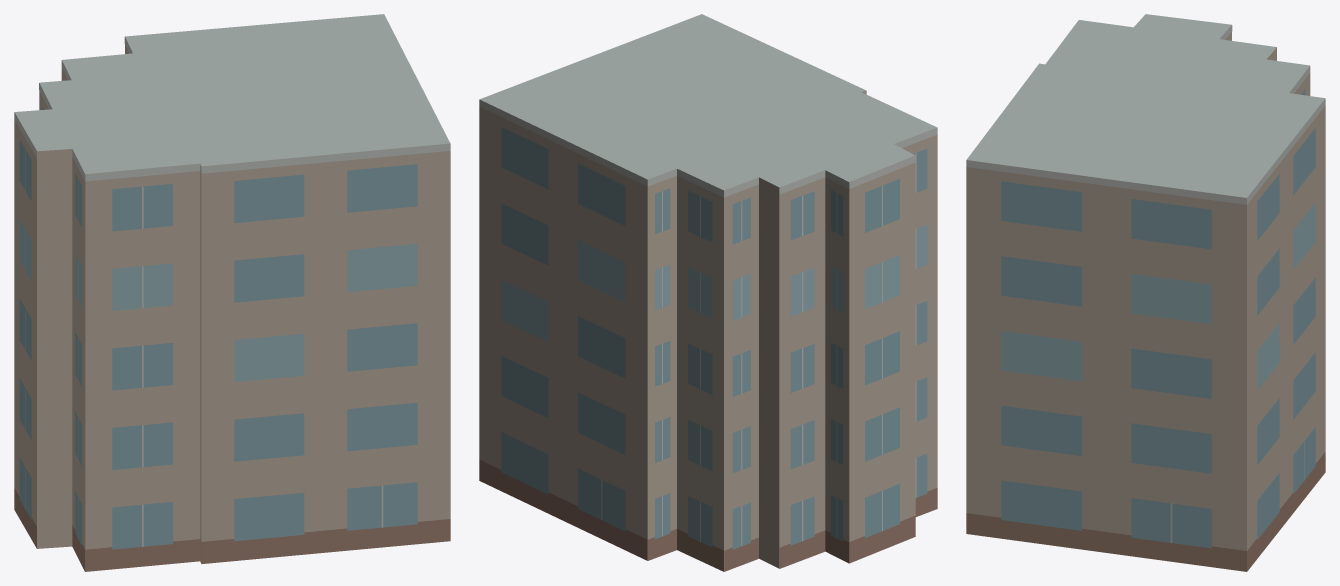
Rendered from survey-upis-32886717.glb.
The picture shows the model from 3 angles, left to right: view 1: azimuth 30°, elevation 25°; view 2: azimuth 150°, elevation 25°; view 3: azimuth 270°, elevation 25°; orthographic projection. The views are drawn at different scales.
Parts seen in each view (by area): view 1: survey-upis-32886717.tmp; view 2: survey-upis-32886717.tmp; view 3: survey-upis-32886717.tmp.
Boxes of the visible parts, x1,y1,x2,y2 form: survey-upis-32886717.tmp: (14,14,450,571); survey-upis-32886717.tmp: (479,14,937,571); survey-upis-32886717.tmp: (966,14,1325,571).
Size of the model in its own units: 13.94 by 13.2 by 11.51.
